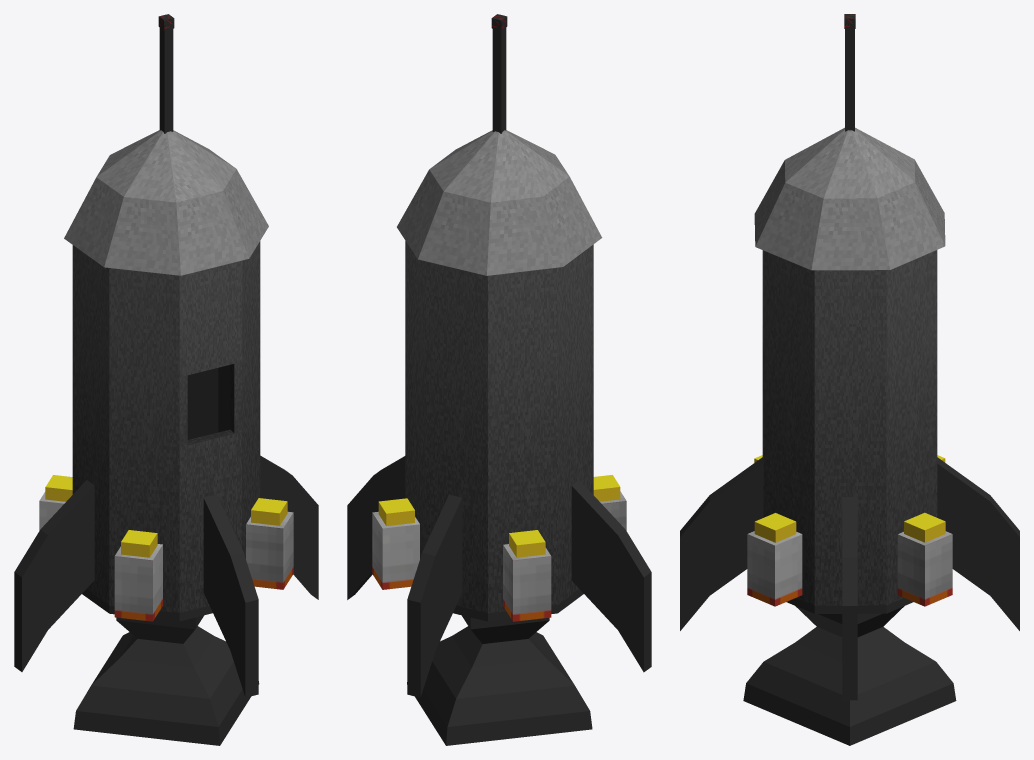
File: tier_3_rocket.obj
3 renders of one model, left to right at view 1: azimuth 30°, elevation 25°; view 2: azimuth 150°, elevation 25°; view 3: azimuth 270°, elevation 25°, orthographic.
Parts seen in each view (by area): view 1: Rocket, NoseCone, Boosters; view 2: Rocket, NoseCone, Boosters; view 3: Rocket, NoseCone, Boosters.
Boxes of the visible parts, x1,y1,x2,y2 form: Rocket: (14, 27, 318, 745); NoseCone: (64, 130, 268, 275); Boosters: (39, 475, 293, 621); Rocket: (347, 27, 651, 745); NoseCone: (397, 130, 602, 275); Boosters: (372, 475, 626, 621); Rocket: (680, 29, 1019, 745); NoseCone: (754, 127, 945, 270); Boosters: (747, 455, 952, 606).
Bounding box in the file's own units: 3.61 × 8.02 × 3.61.
